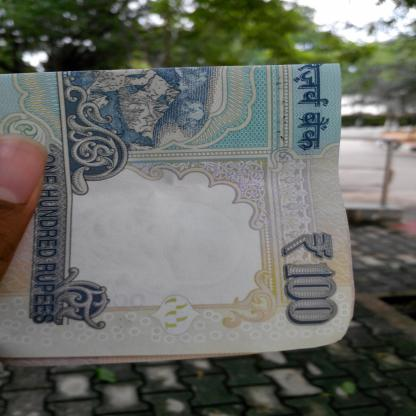Old100Back: (0, 62, 357, 367)
